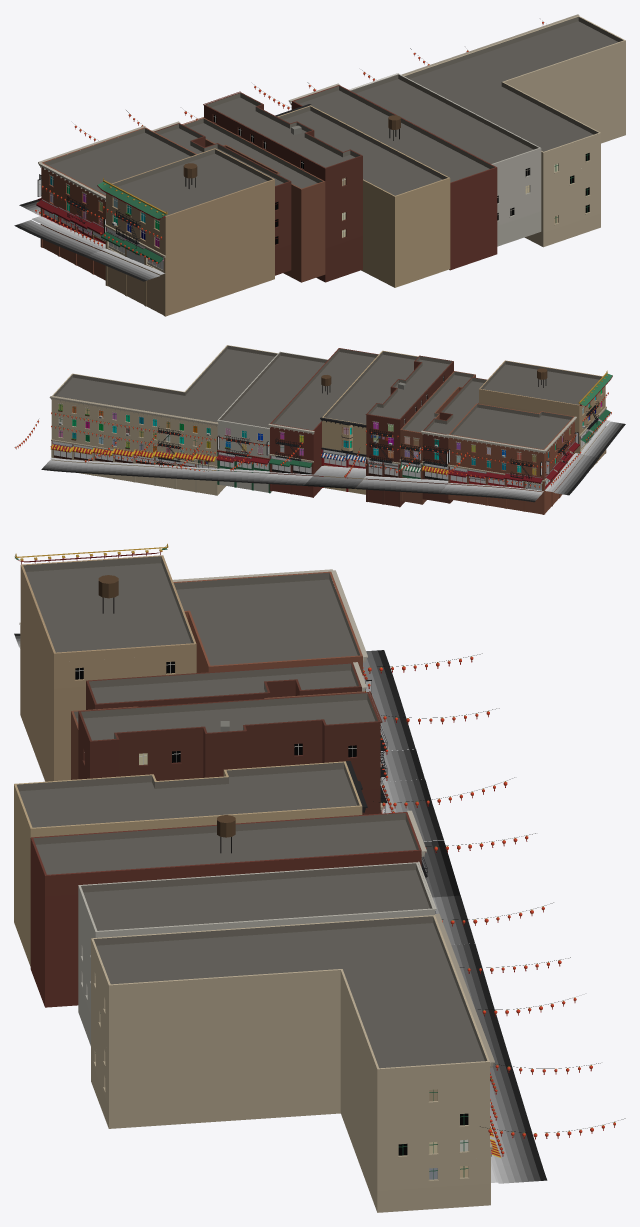
3 views of the same model, one above another, from view 1: azimuth 30°, elevation 25°; view 2: azimuth 150°, elevation 25°; view 3: azimuth 270°, elevation 25° (orthographic). The views are drawn at different scales.
Parts seen in each view (by area): view 1: L0_roof, L0_d_brick, L0_brickred, L0_brick, L0_d_stucco, L0_d_brickred, L0_stone, L0_stucco, L0_ground, L0_d_metal, L0_d_fabric, L0_d_stone (+5 smaller); view 2: L0_roof, L0_brickred, L0_ground, L0_brick, L0_d_metal, L0_stone, L0_d_fabric, L0_stucco, L0_d_stone, L0_cwin, L0_clear, L0_lantern (+6 smaller); view 3: L0_roof, L0_d_brick, L0_brick, L0_brickred, L0_ground, L0_stone, L0_stucco, L0_d_brickred, L0_d_stucco, L0_lantern, L0_win, L0_d_metal.
Boxes of the visible parts, box(x1,y1,x2,y2) form: L0_roof: box(43, 16, 623, 215); L0_d_brick: box(112, 40, 625, 316); L0_brickred: box(41, 101, 450, 282); L0_brick: box(106, 133, 600, 314); L0_d_stucco: box(361, 178, 450, 287); L0_d_brickred: box(48, 139, 497, 282); L0_stone: box(38, 14, 625, 257); L0_stucco: box(492, 148, 541, 246); L0_ground: box(14, 199, 164, 281); L0_d_metal: box(37, 22, 544, 272); L0_d_fabric: box(36, 24, 543, 264); L0_d_stone: box(40, 103, 291, 316); L0_roof: box(53, 345, 601, 449); L0_brickred: box(270, 361, 574, 514); L0_ground: box(41, 420, 625, 502); L0_brick: box(51, 386, 605, 495); L0_d_metal: box(14, 379, 609, 488); L0_stone: box(49, 345, 606, 481); L0_d_fabric: box(16, 394, 611, 488); L0_stucco: box(217, 420, 366, 494); L0_d_stone: box(51, 399, 606, 514); L0_cwin: box(58, 390, 601, 475); L0_clear: box(54, 419, 602, 486); L0_lantern: box(15, 392, 611, 487); L0_roof: box(17, 556, 487, 1068); L0_d_brick: box(20, 565, 377, 1211); L0_brick: box(54, 644, 489, 1212); L0_brickred: box(45, 611, 421, 1007); L0_ground: box(14, 633, 547, 1183); L0_stone: box(14, 555, 494, 1149); L0_stucco: box(30, 770, 434, 1045); L0_d_brickred: box(30, 612, 362, 1006); L0_d_stucco: box(14, 784, 30, 966); L0_lantern: box(363, 657, 615, 1154); L0_win: box(75, 661, 468, 1179); L0_d_metal: box(102, 597, 625, 1156).
Size of the model in its own units: 126 by 30.51 by 68.95.
